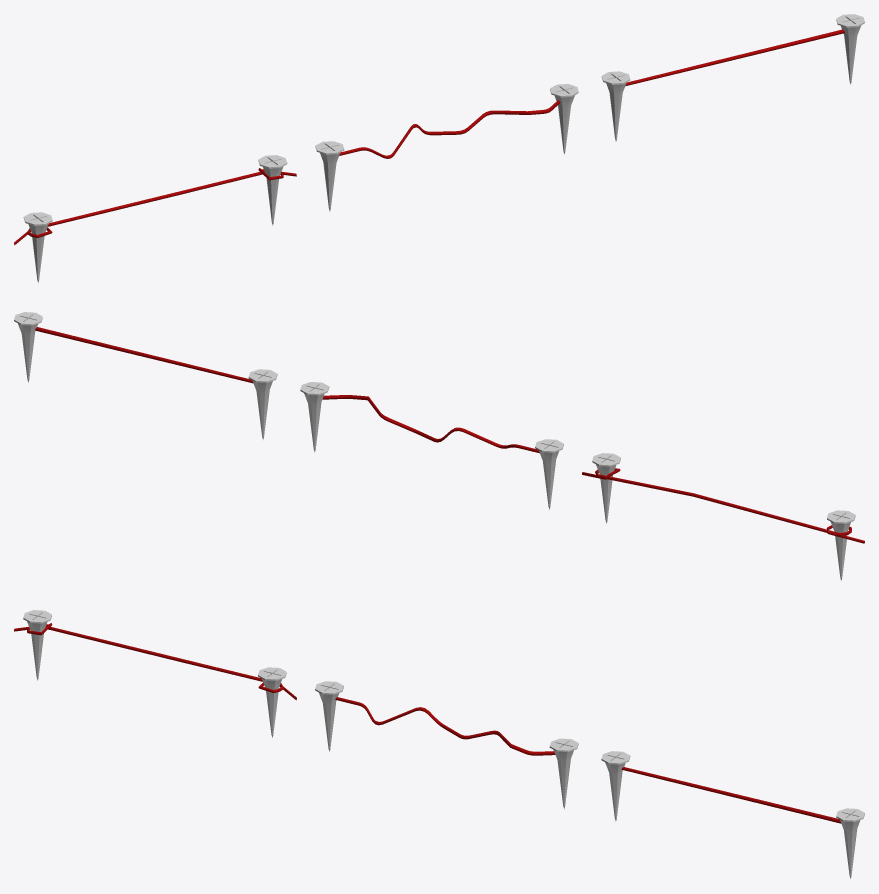
File: thread.fbx
3 renders of one model, top to bottom at view 1: azimuth 30°, elevation 25°; view 2: azimuth 150°, elevation 25°; view 3: azimuth 330°, elevation 25°, orthographic.
Parts seen in each view (by area): view 1: thread3, thread2, thread1, screw, screw3, screw2, screw4, screw5, screw6; view 2: thread3, thread2, thread1, screw, screw4, screw3, screw2, screw6, screw5; view 3: thread3, thread2, thread1, screw4, screw2, screw, screw3, screw5, screw6.
Part boxes in pixels (<box>): thread3: <box>14,168,296,245</box>; thread2: <box>339,100,560,158</box>; thread1: <box>625,29,844,86</box>; screw: <box>601,71,630,141</box>; screw3: <box>315,141,344,212</box>; screw2: <box>836,14,864,84</box>; screw4: <box>550,84,578,154</box>; screw5: <box>23,212,52,283</box>; screw6: <box>258,155,287,225</box>; thread3: <box>582,468,864,543</box>; thread2: <box>322,395,539,453</box>; thread1: <box>35,327,253,383</box>; screw: <box>248,369,277,440</box>; screw4: <box>300,382,329,452</box>; screw3: <box>535,439,563,510</box>; screw2: <box>14,312,42,382</box>; screw6: <box>592,453,620,523</box>; screw5: <box>827,510,855,580</box>; thread3: <box>14,623,296,700</box>; thread2: <box>335,697,555,755</box>; thread1: <box>621,767,841,823</box>; screw4: <box>549,738,578,809</box>; screw2: <box>836,808,864,879</box>; screw: <box>601,751,630,822</box>; screw3: <box>315,681,343,752</box>; screw5: <box>23,610,51,680</box>; screw6: <box>258,667,286,738</box>.
Size of the model in its own units: 131 by 9.67 by 4.59.
